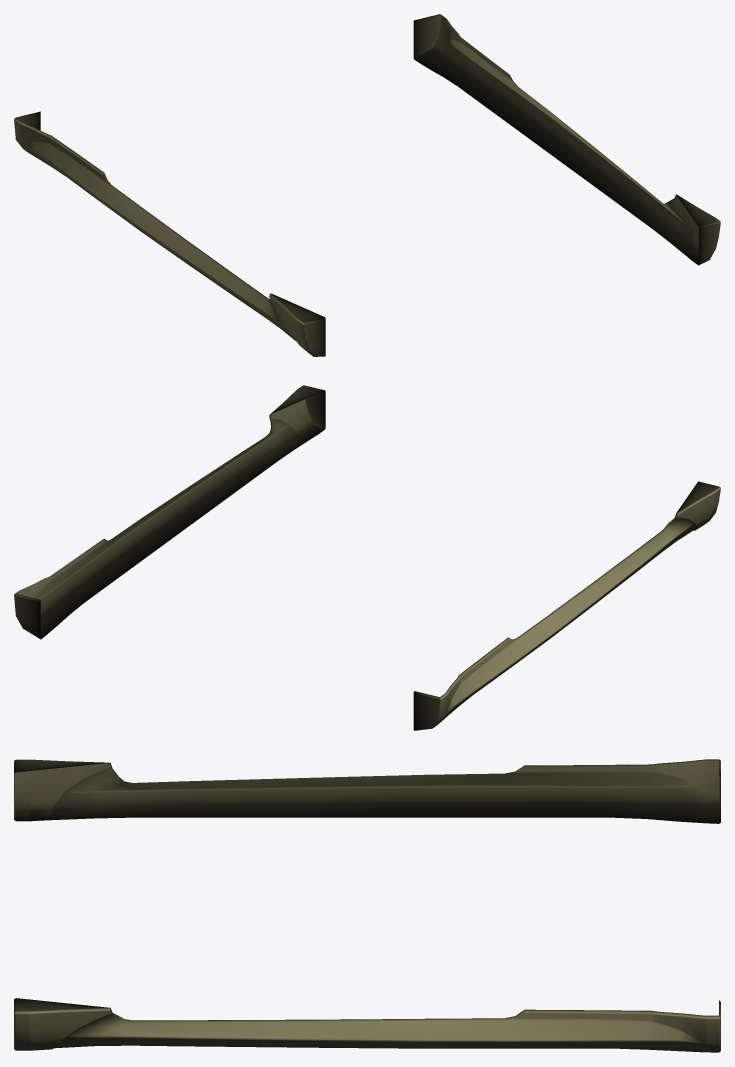
File: G37_Skirt_01_Duco.fbx
3 renders of one model, top to bottom at view 1: azimuth 30°, elevation 25°; view 2: azimuth 150°, elevation 25°; view 3: azimuth 270°, elevation 25°, orthographic. The views are drawn at different scales.
Visible parts, largest first — view 1: G37_Skirt_01_Duco; view 2: G37_Skirt_01_Duco; view 3: G37_Skirt_01_Duco.
Boxes of the visible parts, x1,y1,x2,y2 form: G37_Skirt_01_Duco: (14,14,720,356); G37_Skirt_01_Duco: (14,385,720,730); G37_Skirt_01_Duco: (14,759,720,1052).
Bounding box in the file's own units: 180 × 16.77 × 208.
